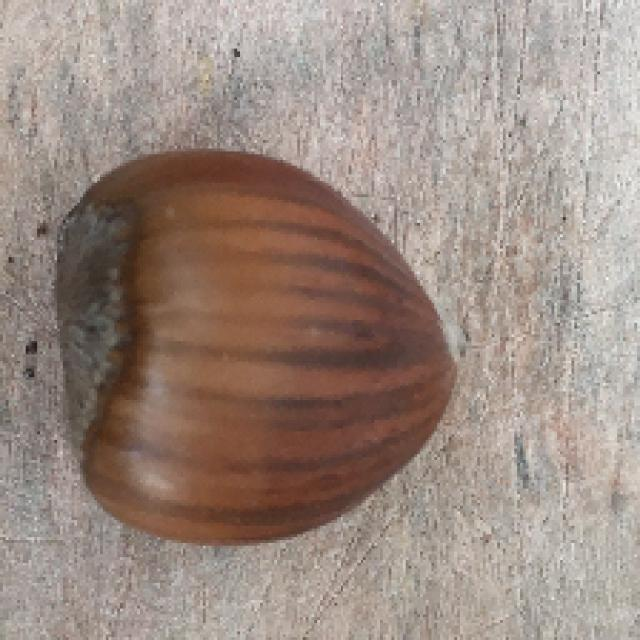damagedHazelnut: (51, 143, 463, 541)
